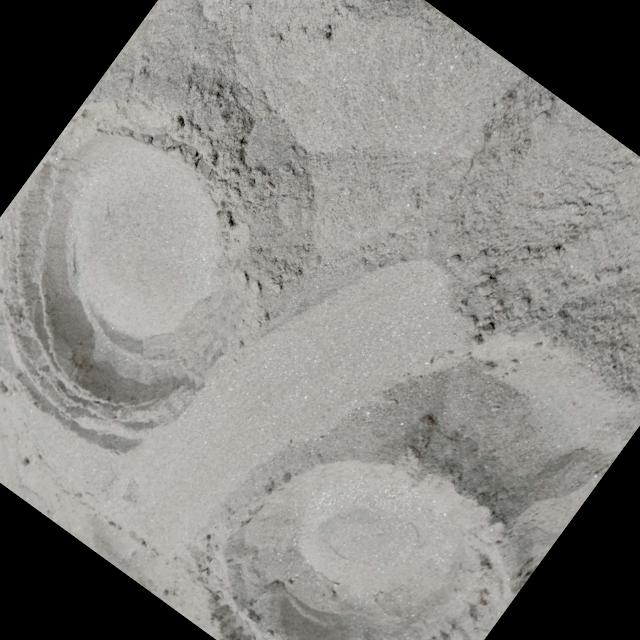C20: (3, 135, 238, 435), (225, 460, 496, 640)
